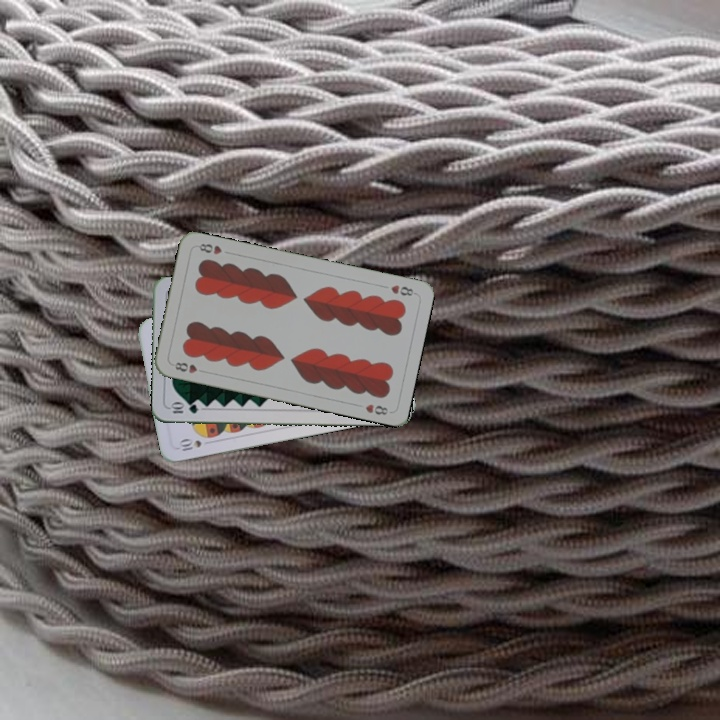G10: (166, 401, 201, 416)
H8: (170, 358, 208, 376), (387, 281, 418, 299)
S10: (175, 436, 204, 454)
